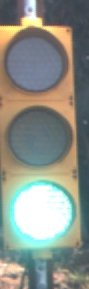Green: (1, 15, 79, 264)
